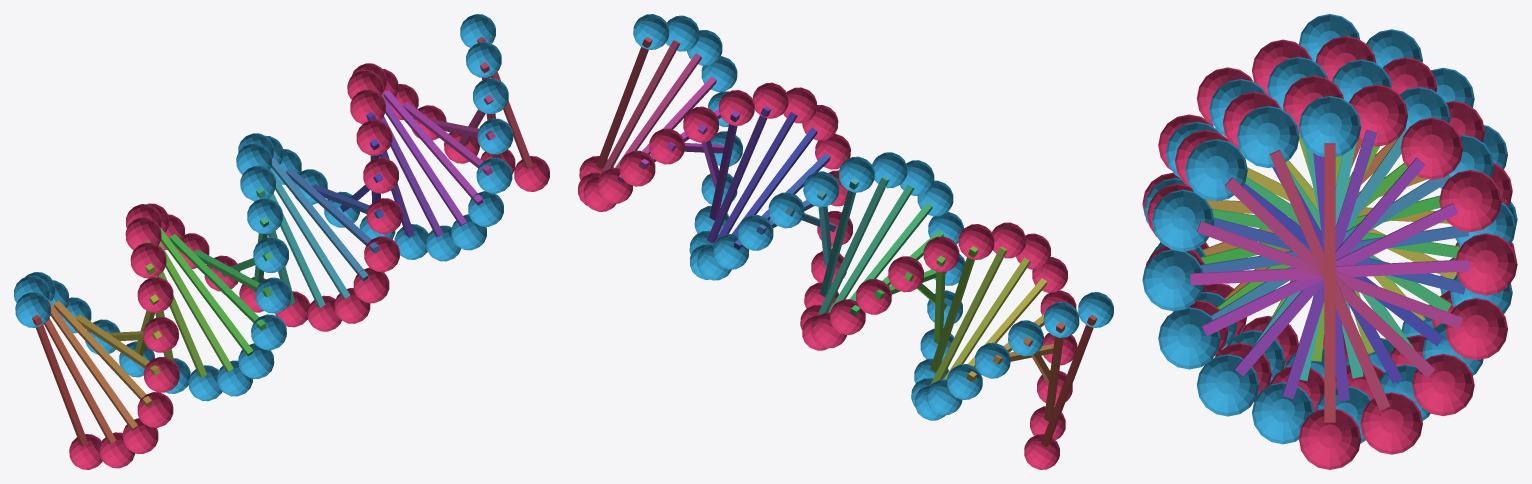
File: dna.glb
3 views of the same model, side by side, from view 1: azimuth 30°, elevation 25°; view 2: azimuth 150°, elevation 25°; view 3: azimuth 270°, elevation 25° (orthographic). The views are drawn at different scales.
Size of the model in its own units: 4.71 by 3.03 by 1.68.
